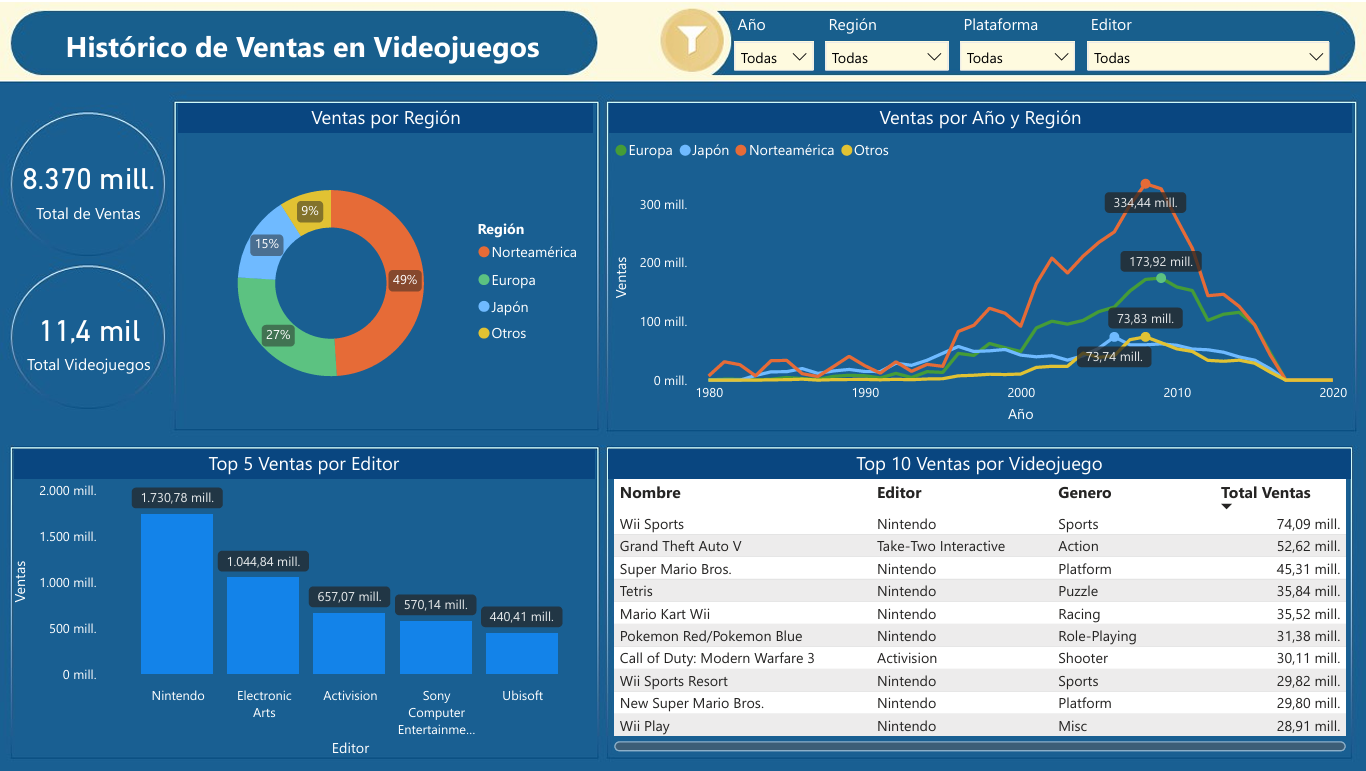

The page's visual inventory and layout, read from the dashboard file:
{"tool":"powerbi","page":{"name":"Ventas Generales","canvas":[1280,720],"ordinal":0},"visuals":[{"type":"tableEx","title":"Top 10 Ventas por Videojuego","fields":{"Values":["4  Video Games Sales.Name","4  Video Games Sales.Editor","VideoGamesSales.Genero","VideoGamesSales.TotalVentas"]},"box":[570.2,417.9,694.1,286.9],"z":0},{"type":"card","fields":{"Values":["VideoGamesSales.TotalVentas"]},"box":[0,129.2,168.8,88.3],"z":1000},{"type":"slicer","fields":{"Values":["4  Video Games Sales.Año"]},"box":[677.7,5.3,93.6,59.3],"z":2000},{"type":"pieChart","title":"Ventas por Región","fields":{"Category":["4  Video Games Sales.Region"],"Y":["VideoGamesSales.RodondeoPorcentage"]},"box":[169,95.2,386.9,311.9],"z":3000},{"type":"slicer","fields":{"Values":["4  Video Games Sales.Region"]},"box":[763.1,4.8,134.5,60.7],"z":4000},{"type":"slicer","fields":{"Values":["4  Video Games Sales.Platforma"]},"box":[889.3,4.8,127.4,61.9],"z":5000},{"type":"slicer","fields":{"Values":["4  Video Games Sales.Editor"]},"box":[1391.4,20,341.9,90.9],"z":6000},{"type":"textbox","box":[35.6,17.1,497.1,46.1],"z":7000},{"type":"card","fields":{"Values":["VideoGamesSales.TotalGames"]},"box":[13.2,270.3,143.7,89.7],"z":8000},{"type":"slicer","fields":{"Values":["VideoGamesSales.EditorAcortado"]},"box":[1008.3,4.8,246.4,64.3],"z":9000},{"type":"columnChart","title":"Top 5 Ventas por Editor","fields":{"Category":["VideoGamesSales.Editor"],"Y":["Sum(VideoGamesSales.Ventas)"]},"box":[15.5,417.9,541.7,286.9],"z":10000},{"type":"lineChart","title":"Ventas por Año y Región","fields":{"Series":["4  Video Games Sales.Region"],"Category":["VideoGamesSales.Año"],"Y":["VideoGamesSales.TotalVentas"]},"box":[571.4,95.2,694.1,303.6],"z":11000}]}

Visuals, with their boxes in screenshot pixels (x1, y1, x2, y2), scaled from the page's 1280x720 canvas onto the 1366x771 screenshot:
"Top 10 Ventas por Videojuego" tableEx: {"x1": 609, "y1": 448, "x2": 1349, "y2": 755}
card - VideoGamesSales.TotalVentas: {"x1": 0, "y1": 138, "x2": 180, "y2": 233}
slicer - 4  Video Games Sales.Año: {"x1": 723, "y1": 6, "x2": 823, "y2": 69}
"Ventas por Región" pieChart: {"x1": 180, "y1": 102, "x2": 593, "y2": 436}
slicer - 4  Video Games Sales.Region: {"x1": 814, "y1": 5, "x2": 958, "y2": 70}
slicer - 4  Video Games Sales.Platforma: {"x1": 949, "y1": 5, "x2": 1085, "y2": 71}
textbox: {"x1": 38, "y1": 18, "x2": 568, "y2": 68}
card - VideoGamesSales.TotalGames: {"x1": 14, "y1": 289, "x2": 167, "y2": 386}
slicer - VideoGamesSales.EditorAcortado: {"x1": 1076, "y1": 5, "x2": 1339, "y2": 74}
"Top 5 Ventas por Editor" columnChart: {"x1": 17, "y1": 448, "x2": 595, "y2": 755}
"Ventas por Año y Región" lineChart: {"x1": 610, "y1": 102, "x2": 1351, "y2": 427}
